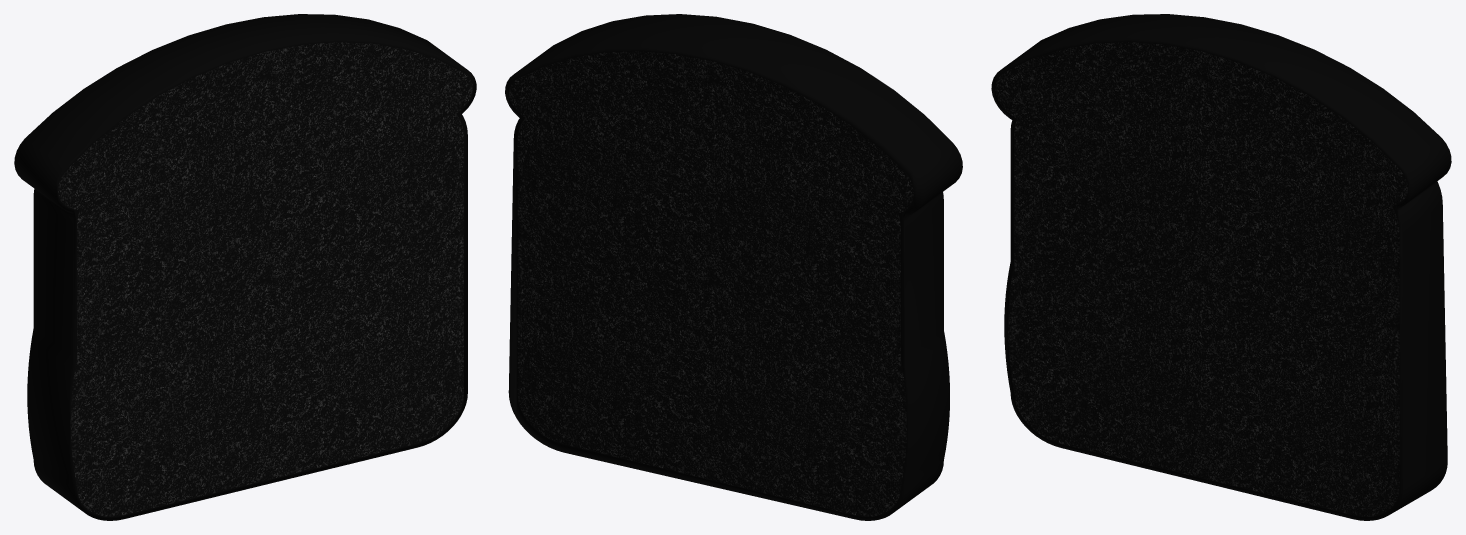
3 renders of one model, left to right at view 1: azimuth 30°, elevation 25°; view 2: azimuth 150°, elevation 25°; view 3: azimuth 330°, elevation 25°, orthographic.
Parts seen in each view (by area): view 1: Bread and Butter; view 2: Bread and Butter; view 3: Bread and Butter.
Boxes of the visible parts, x1,y1,x2,y2 form: Bread and Butter: (14, 14, 476, 520); Bread and Butter: (505, 14, 962, 520); Bread and Butter: (991, 14, 1451, 520).
Bounding box in the file's own units: 0.1139 × 0.1136 × 0.0185.
Materials: 2 (1 with a texture image).
